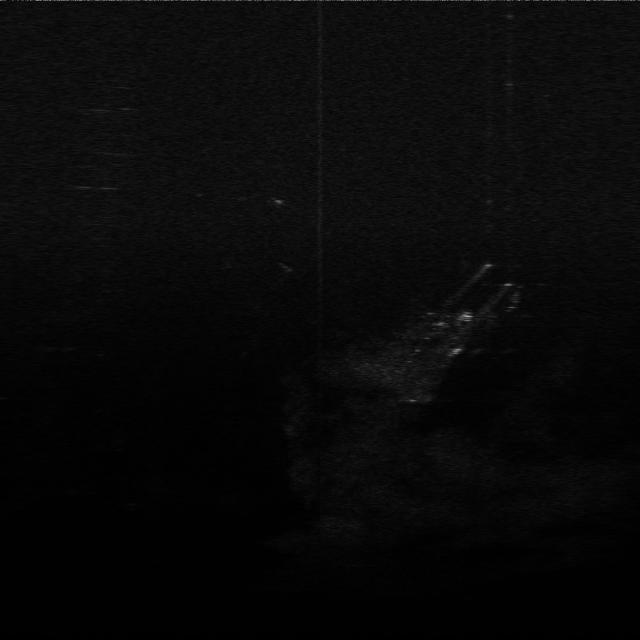rov: (454, 308, 482, 325)
